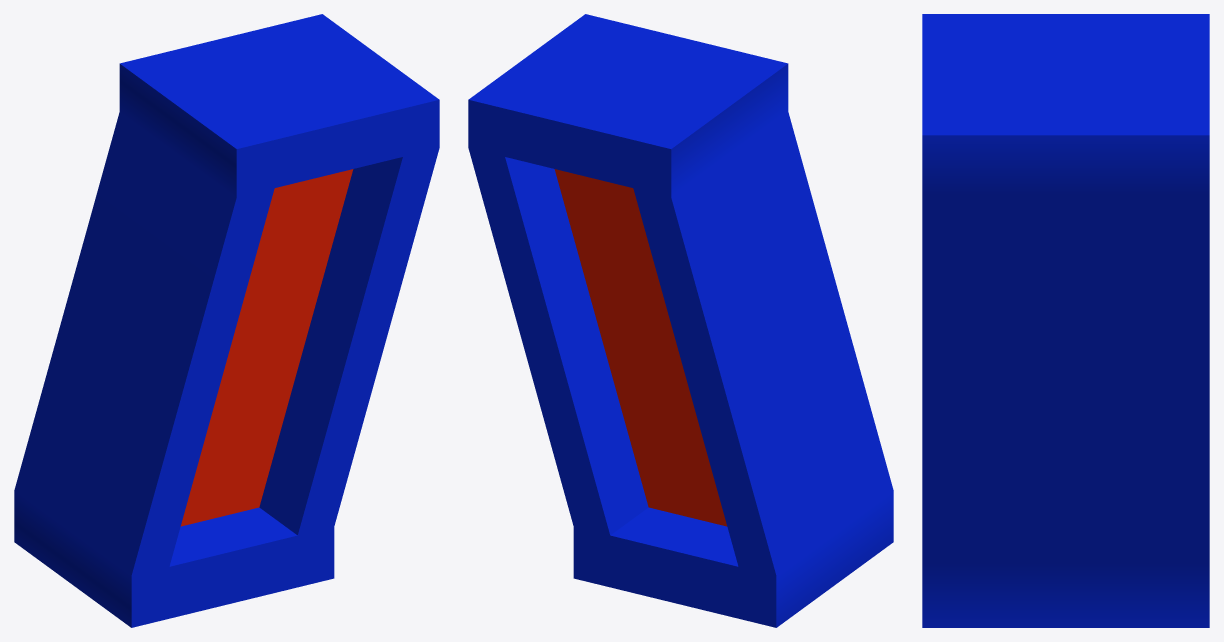
Rendered from RedAmmo.fbx.
3 views of the same model, side by side, from view 1: azimuth 30°, elevation 25°; view 2: azimuth 150°, elevation 25°; view 3: azimuth 270°, elevation 25° (orthographic). The views are drawn at different scales.
Visible parts, largest first — view 1: pCube1; view 2: pCube1; view 3: pCube1.
Part boxes in pixels (x1=…): pCube1: x1=14, y1=14, x2=439, y2=627; pCube1: x1=468, y1=14, x2=893, y2=627; pCube1: x1=922, y1=14, x2=1209, y2=627.
Bounding box in the file's own units: 7.38 × 10.37 × 4.86.
